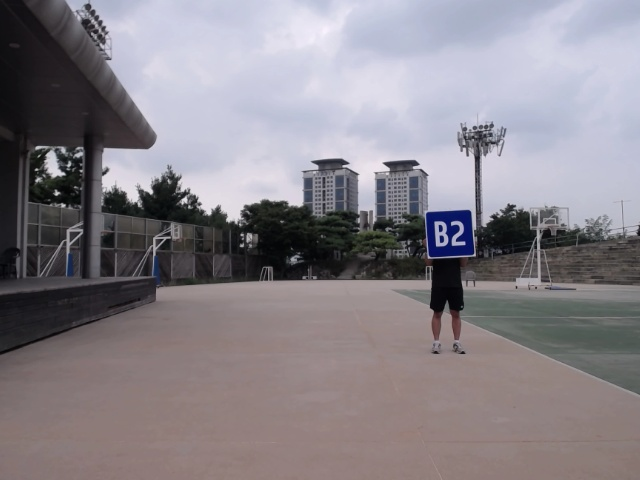delivery_b2: (424, 210, 476, 260)
